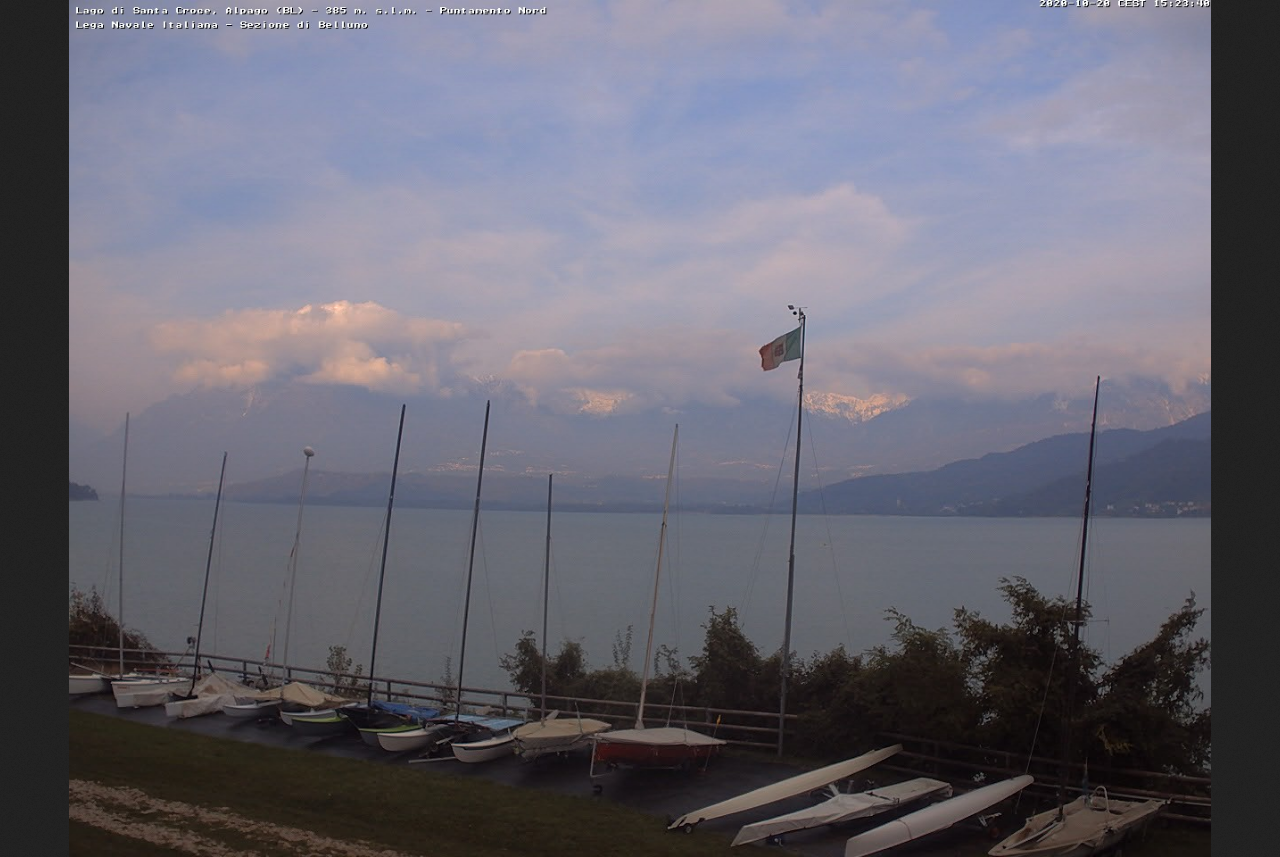maybe: (757, 320, 802, 377)
